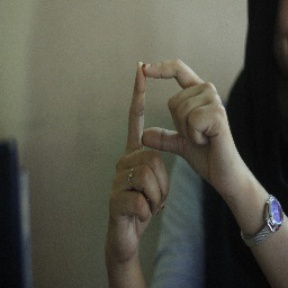D: (119, 56, 212, 165)
